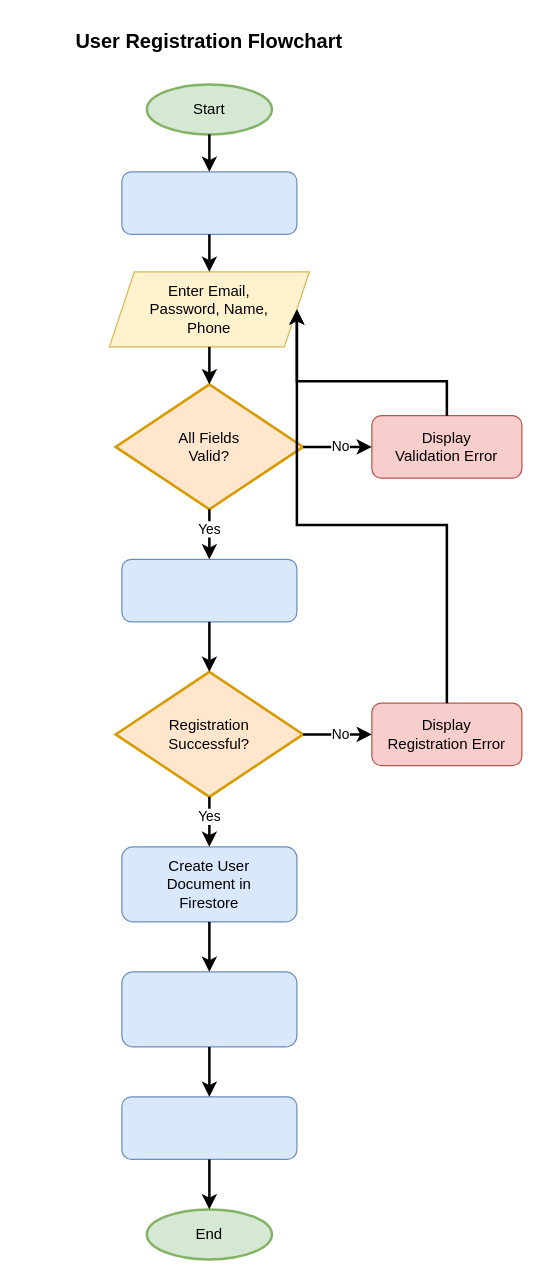
The diagram is 544 pixels wide and 1281 high, and some of its shapes have lost their labels. The shapes that lost their labels are listed below. From the top down, each one's box as (x1, y1, x2, y2) in pixels, then its label:
(121, 171, 297, 234): User Opens Registration Screen
(121, 558, 297, 622): Send Registration to Firebase Auth
(121, 971, 297, 1047): Initialize Gamification, Achievements
(121, 1096, 297, 1159): Navigate to Home Screen
